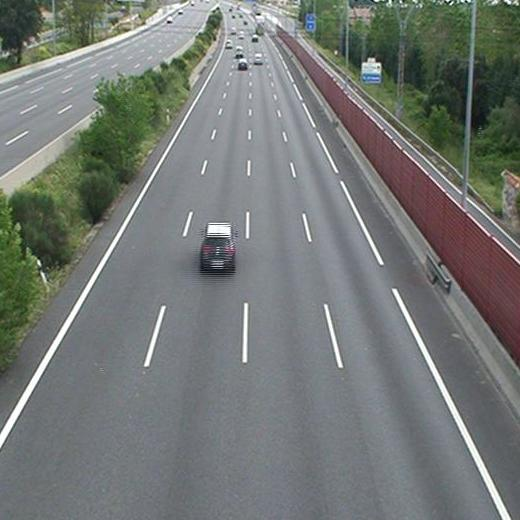car: (201, 224, 234, 267), (253, 53, 264, 64), (234, 46, 244, 56), (238, 59, 247, 69)
